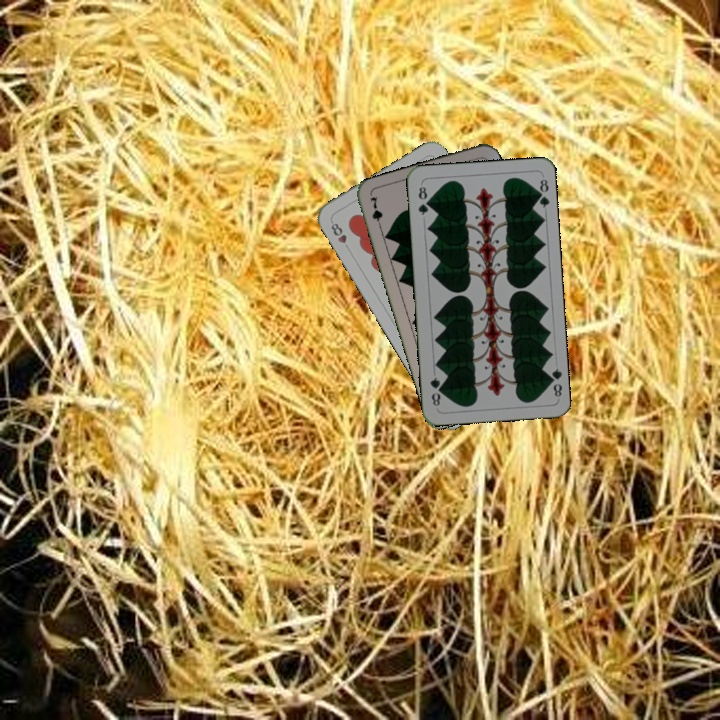G7: (365, 193, 385, 233)
G8: (544, 364, 564, 399), (414, 182, 431, 218)
H8: (327, 217, 349, 246)
